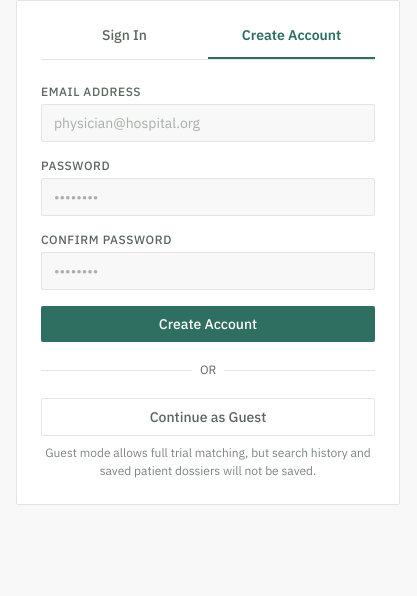
it: AuthForm Component - Keystroke & Input Stability › shows green confirmation notice when account is created with email confirmation required
Type "newdoc@hospital.org" into the field labelled "Email Address".
click(208, 123); type("newdoc@hospital.org")  # box [41, 104, 375, 142]
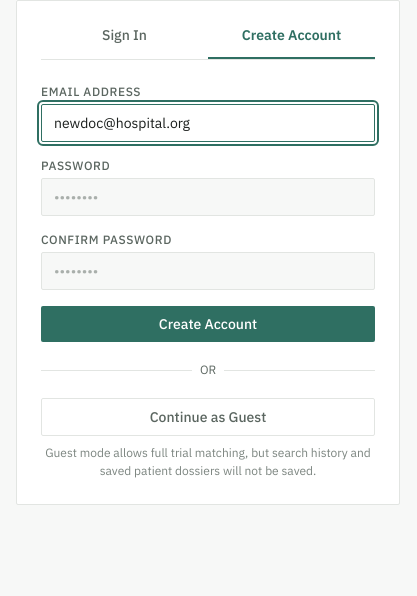
Type "secret123" into the password field labelled "Password".
click(208, 197); type("secret123")  # box [41, 178, 375, 216]
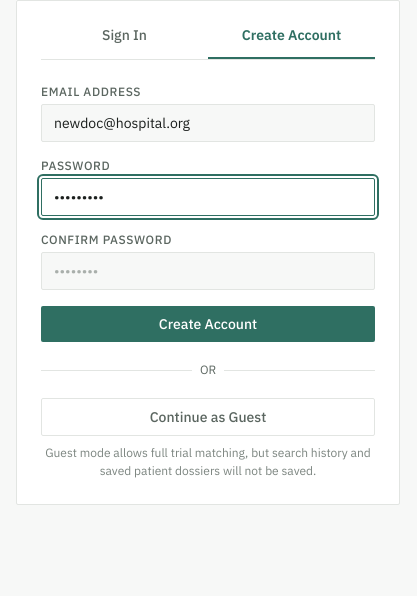
Type "secret123" into the password field labelled "Confirm Password".
click(208, 271); type("secret123")  # box [41, 252, 375, 290]
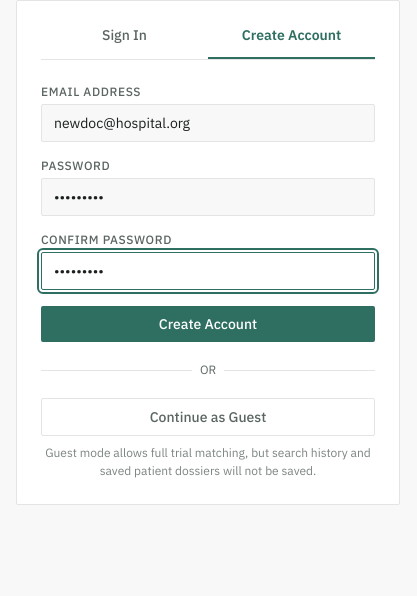
Click the button with test id "auth-submit-btn".
click(208, 324)  # box [41, 306, 375, 342]
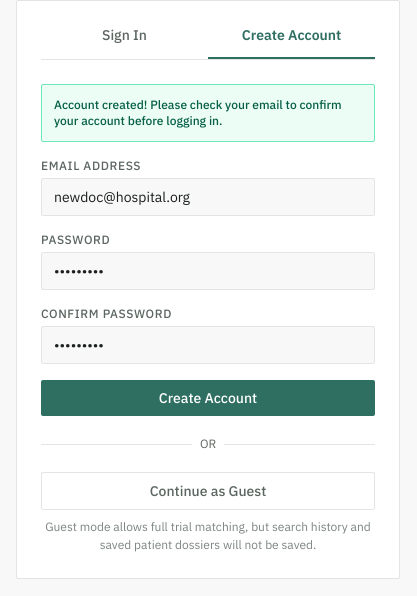
Expected: the message shows "Account created! Please check your email to confirm your account before logging in.", [54, 97, 342, 128]
